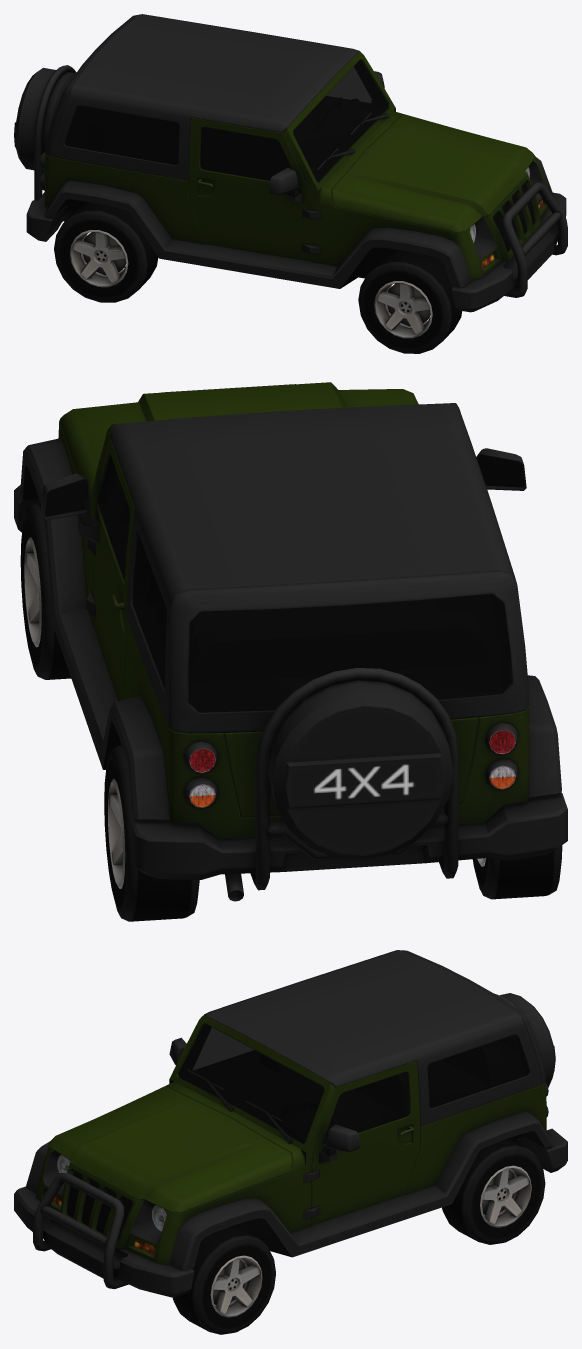
The model's file is offroad.glb.
The picture shows the model from 3 angles, top to bottom: view 1: azimuth 30°, elevation 25°; view 2: azimuth 150°, elevation 25°; view 3: azimuth 270°, elevation 25°; orthographic projection. The views are drawn at different scales.
Visible parts, largest first — view 1: Offroad Body, Wheel_G001, Wheel_G002; view 2: Offroad Body, Wheel_G001, Wheel_G, Wheel_G002; view 3: Offroad Body, Wheel_G, Wheel_G001.
Boxes of the visible parts, x1,y1,x2,y2 form: Offroad Body: [14, 14, 567, 312]; Wheel_G001: [358, 250, 462, 353]; Wheel_G002: [54, 202, 158, 302]; Offroad Body: [14, 382, 567, 901]; Wheel_G001: [104, 745, 199, 921]; Wheel_G: [20, 503, 71, 679]; Wheel_G002: [472, 845, 562, 899]; Offroad Body: [14, 950, 567, 1297]; Wheel_G: [172, 1226, 275, 1334]; Wheel_G001: [442, 1138, 545, 1244].
Size of the model in its own units: 3.46 by 1.57 by 3.75.
Materials: 4 (3 with a texture image).
